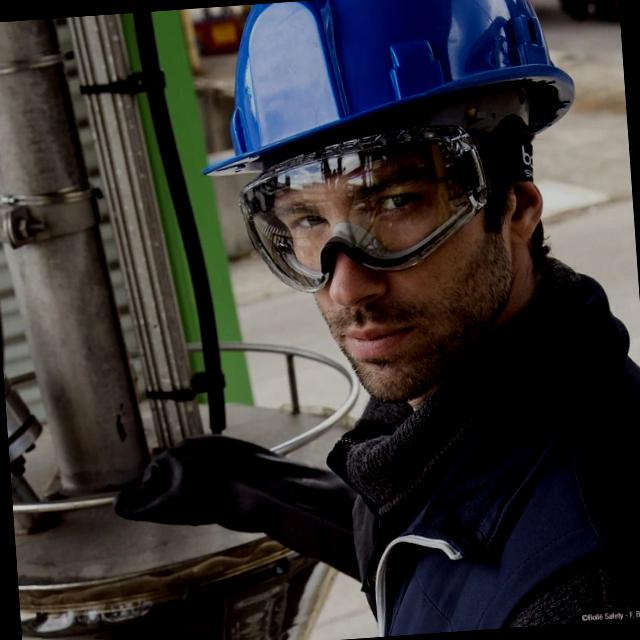goggles: (212, 140, 538, 282)
helmet: (195, 0, 592, 188)
no-vest: (319, 329, 640, 639)
